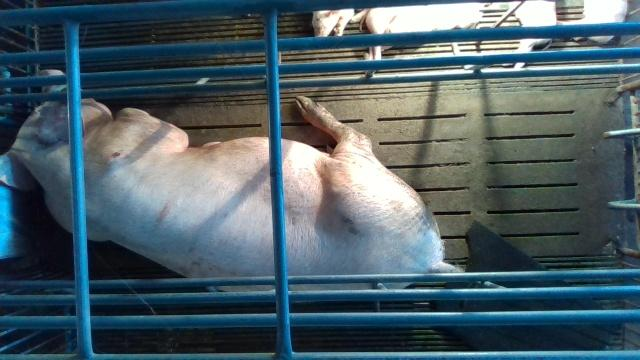piglet: (357, 2, 482, 59), (513, 0, 557, 71), (563, 1, 628, 44), (312, 9, 355, 37)
sow-sleep: (0, 68, 463, 289)
